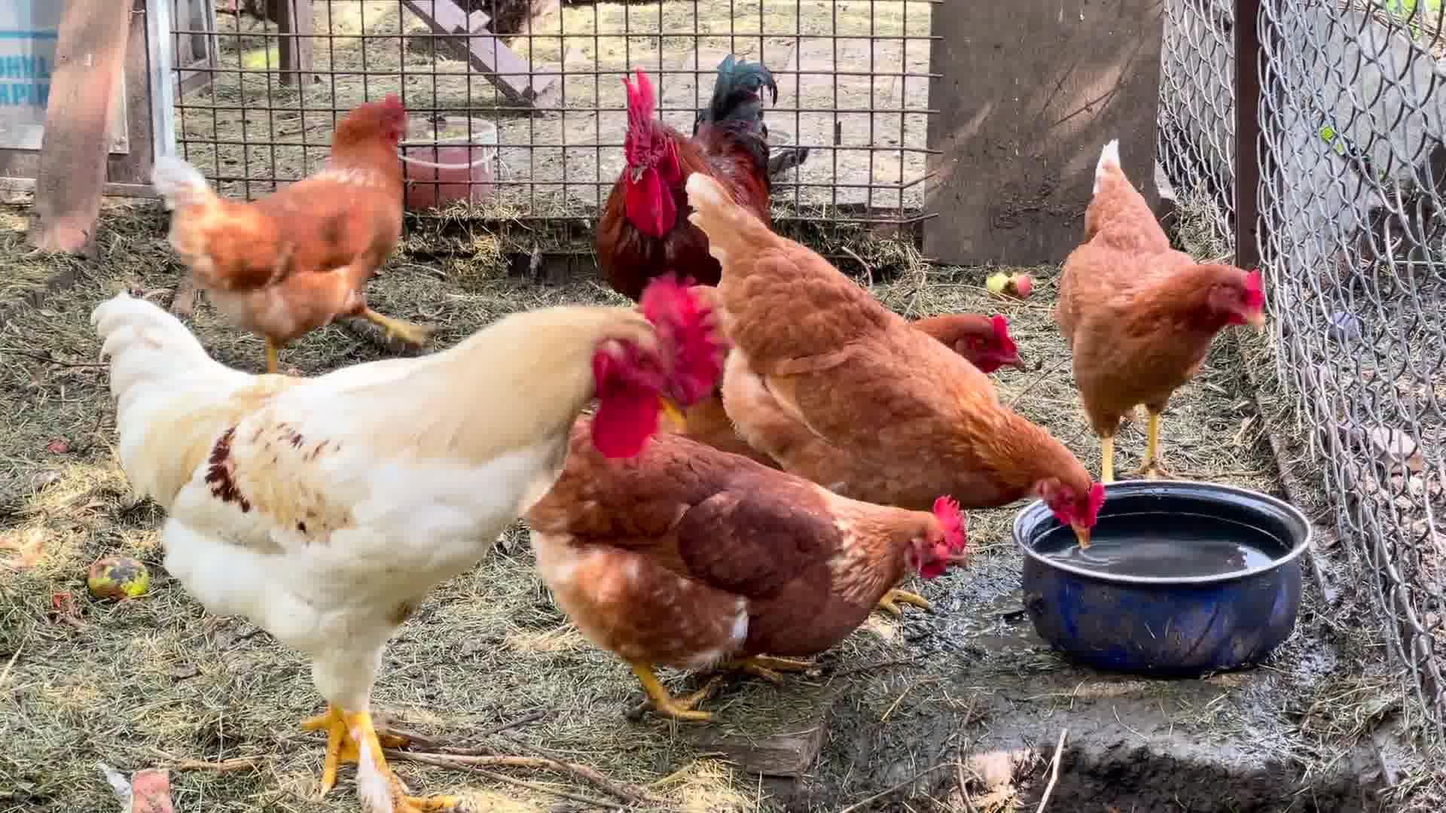Normal: (89, 290, 688, 813), (676, 179, 1141, 571), (561, 390, 981, 726), (134, 89, 460, 365), (1060, 134, 1269, 493), (588, 51, 814, 304), (908, 269, 1046, 405)
